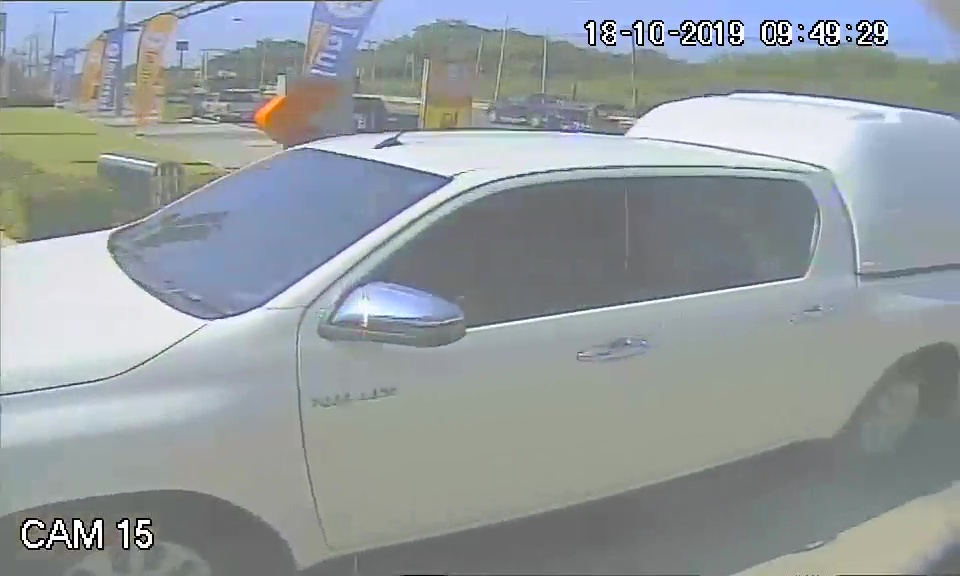pickup: (2, 128, 960, 514)
